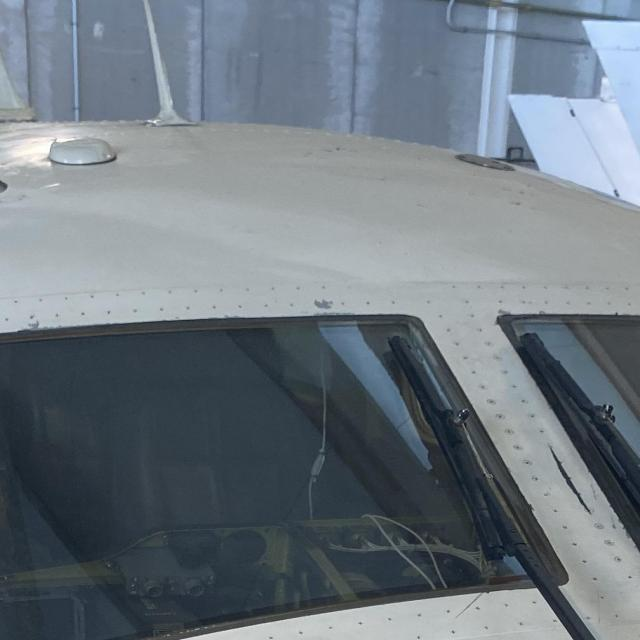Paint-off: (494, 304, 514, 319), (25, 318, 42, 331), (313, 298, 332, 309), (636, 307, 640, 316)
Scratch: (454, 593, 487, 619)
